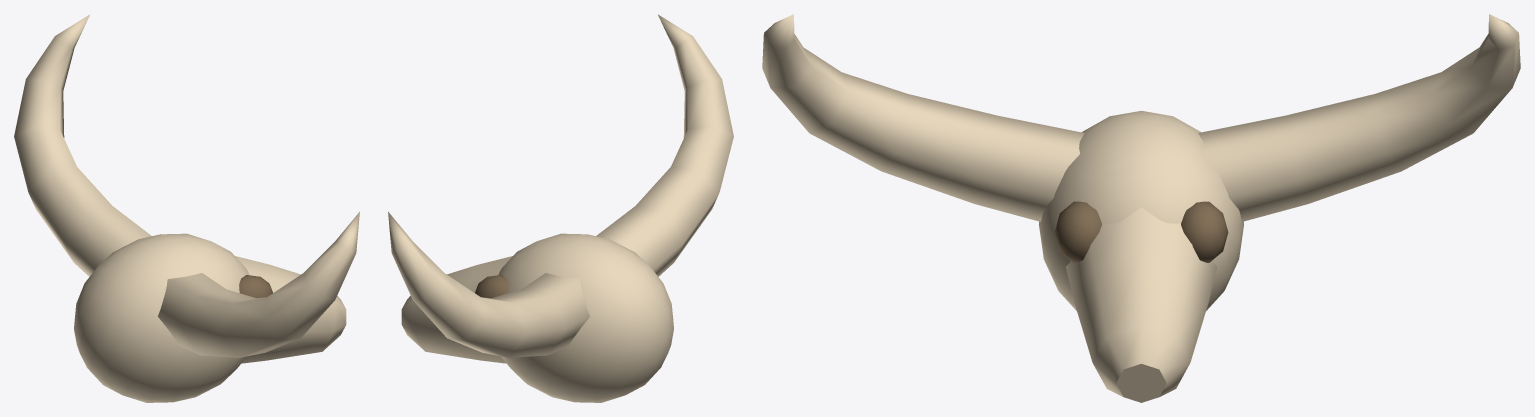
File: building.horns.glb
3 renders of one model, left to right at view 1: azimuth 30°, elevation 25°; view 2: azimuth 150°, elevation 25°; view 3: azimuth 270°, elevation 25°, orthographic. The views are drawn at different scales.
Visible parts, largest first — view 1: Paint, Door; view 2: Paint, Door; view 3: Paint, Door.
Boxes of the visible parts, bbox=[...] form: Paint: bbox=[14, 14, 359, 402]; Door: bbox=[239, 275, 272, 298]; Paint: bbox=[388, 14, 733, 402]; Door: bbox=[475, 275, 508, 298]; Paint: bbox=[762, 14, 1520, 402]; Door: bbox=[1054, 201, 1228, 262].
Bounding box in the file's own units: 0.4878 × 0.485 × 0.9602.
